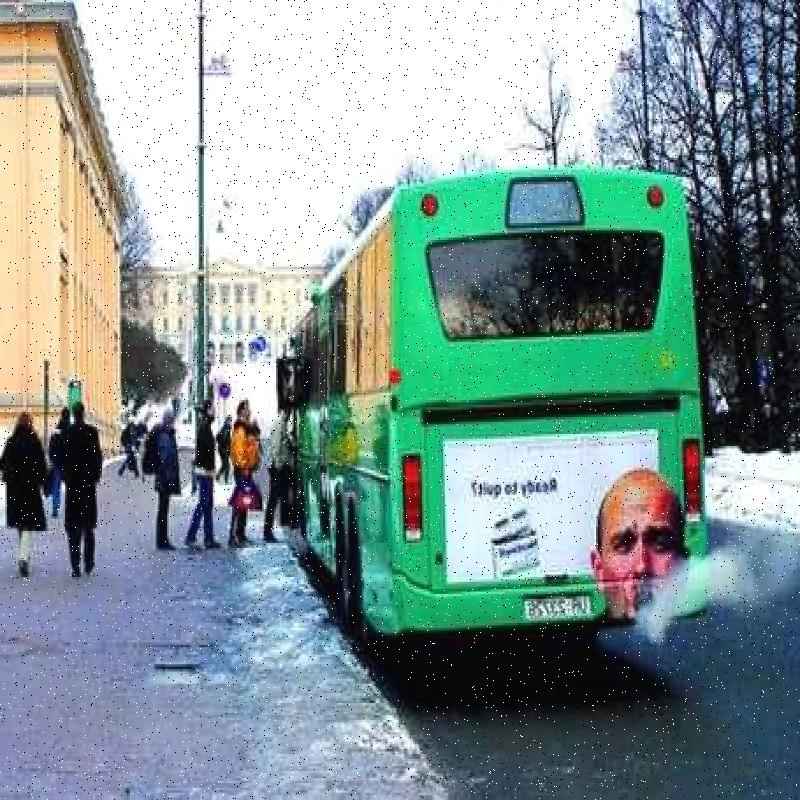bus: (274, 149, 721, 670)
